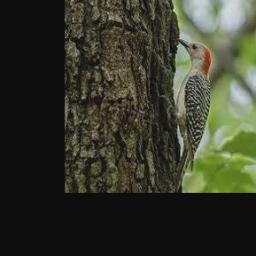Woodpecker: (158, 38, 211, 186)
